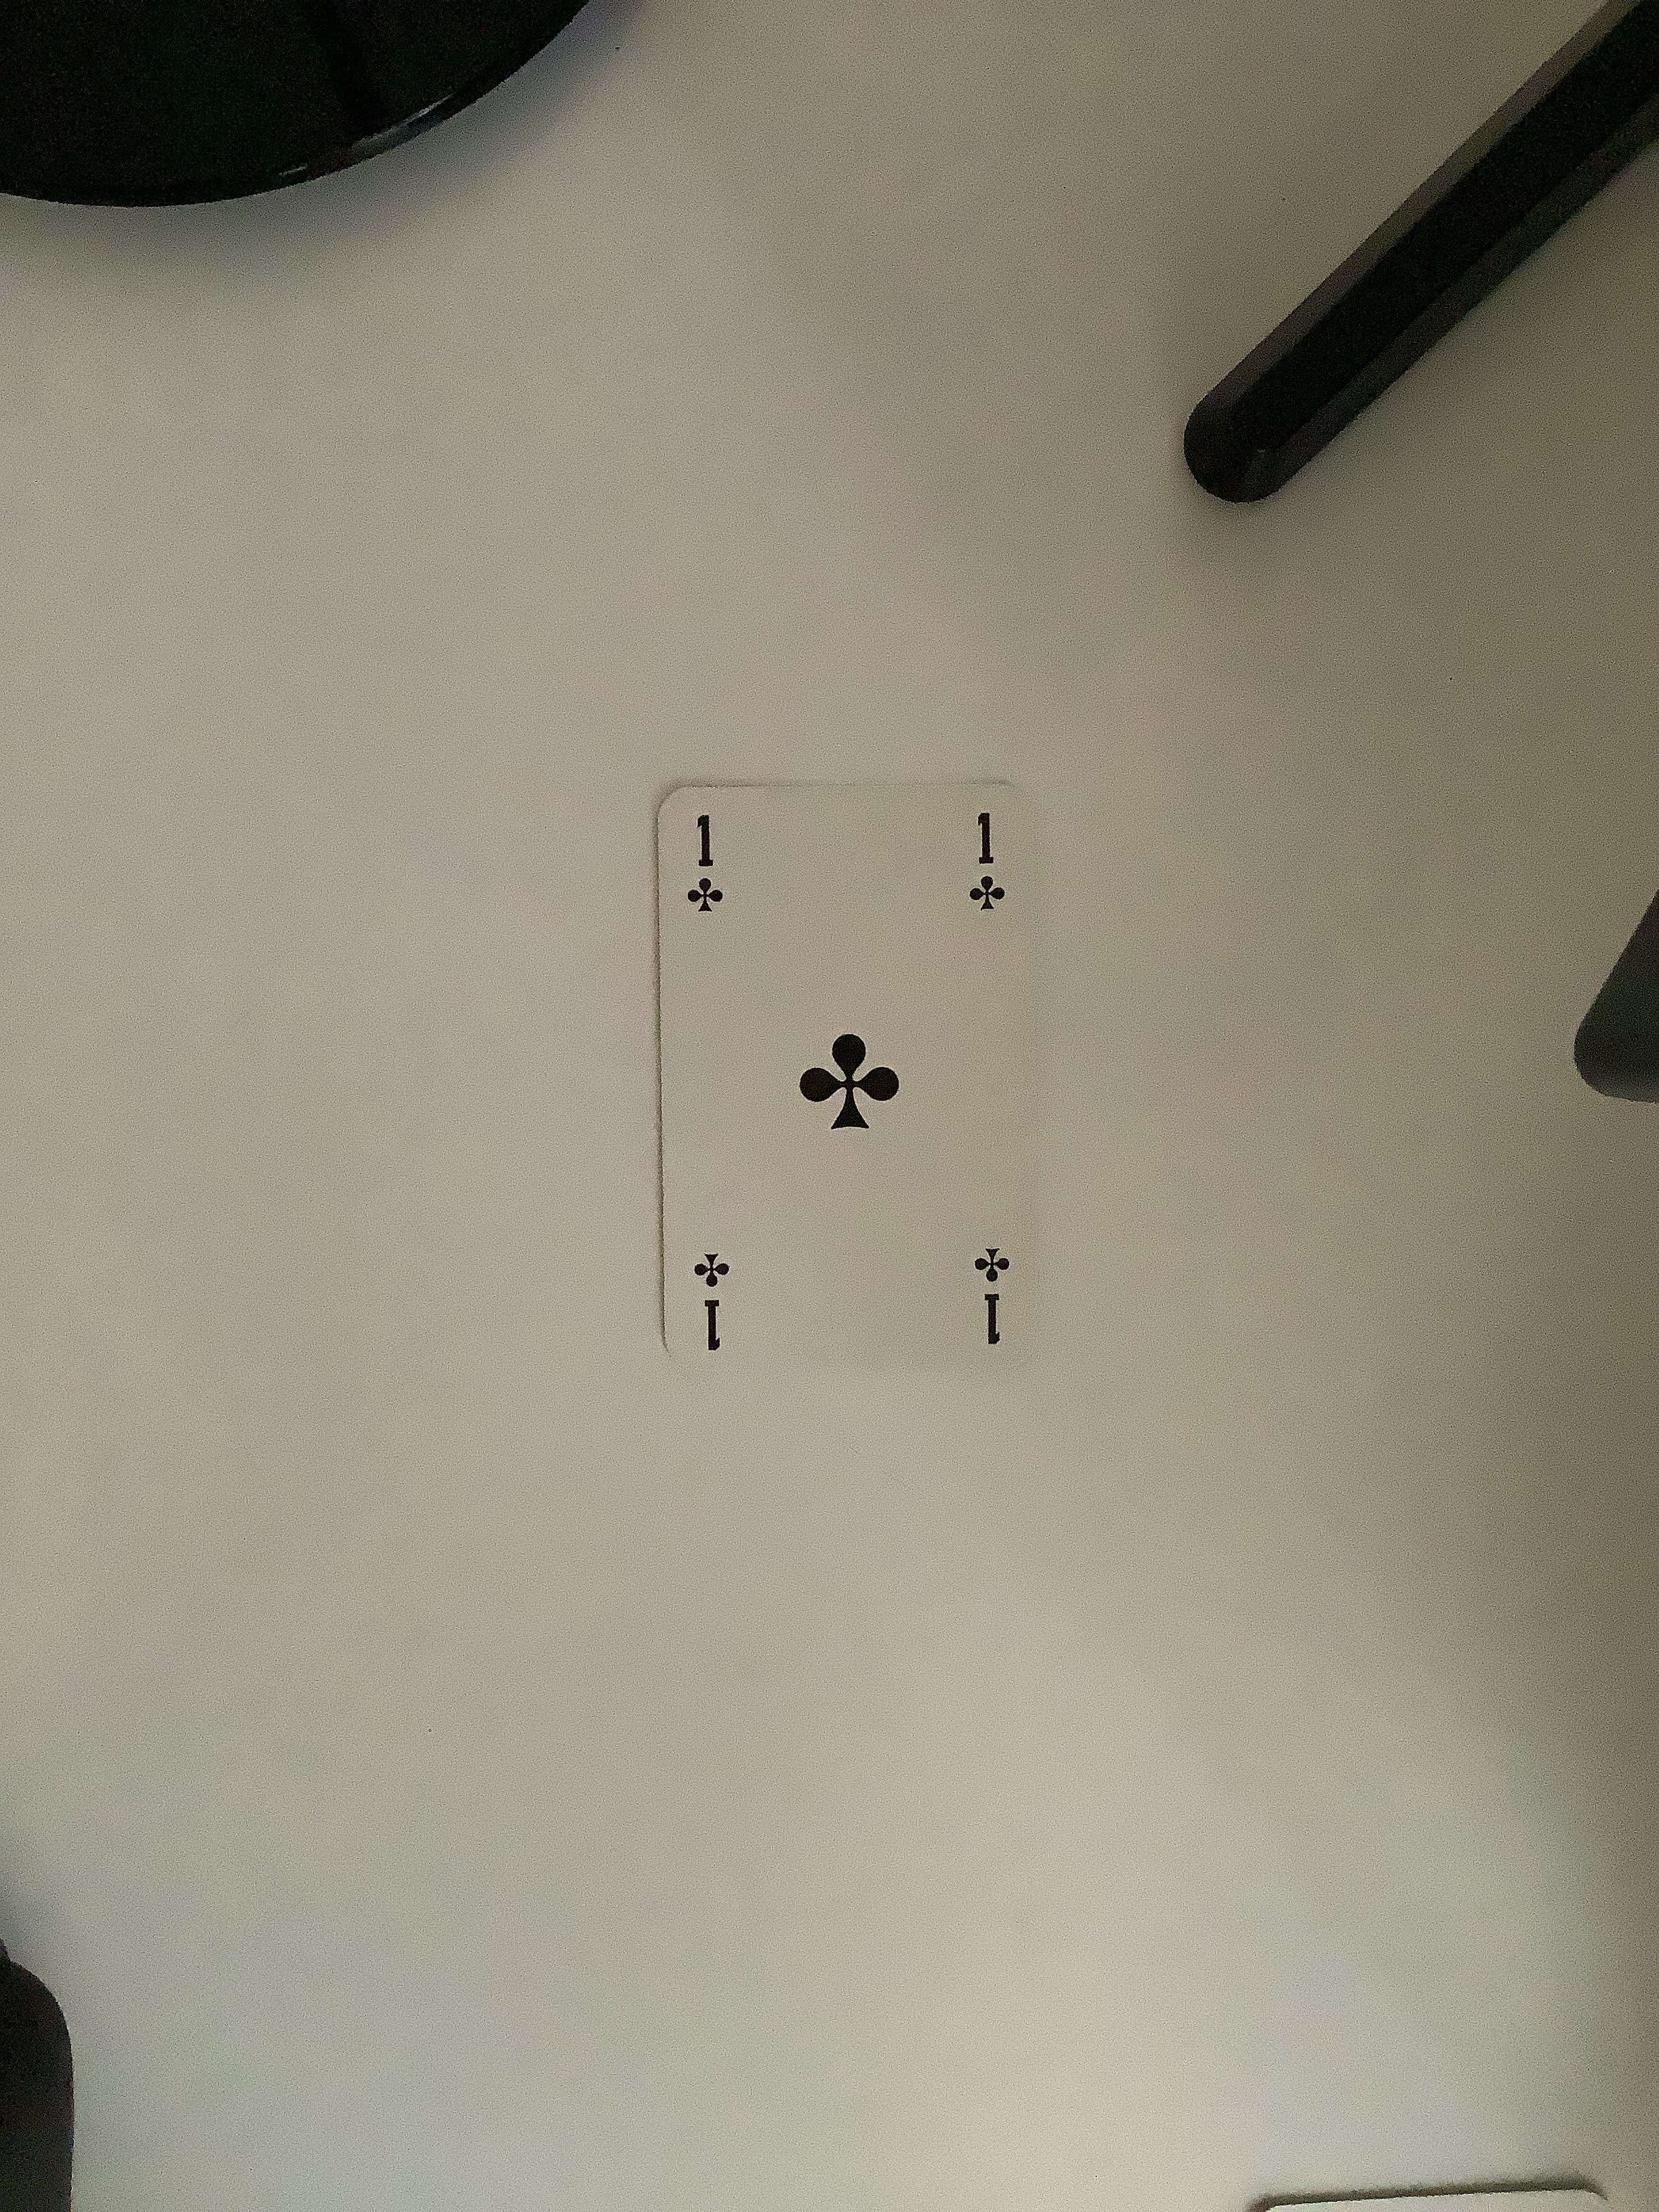♣ 1: (640, 770, 1086, 1402)
